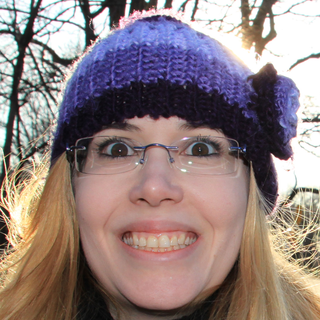eye: (96, 139, 144, 163), (181, 138, 227, 163)
